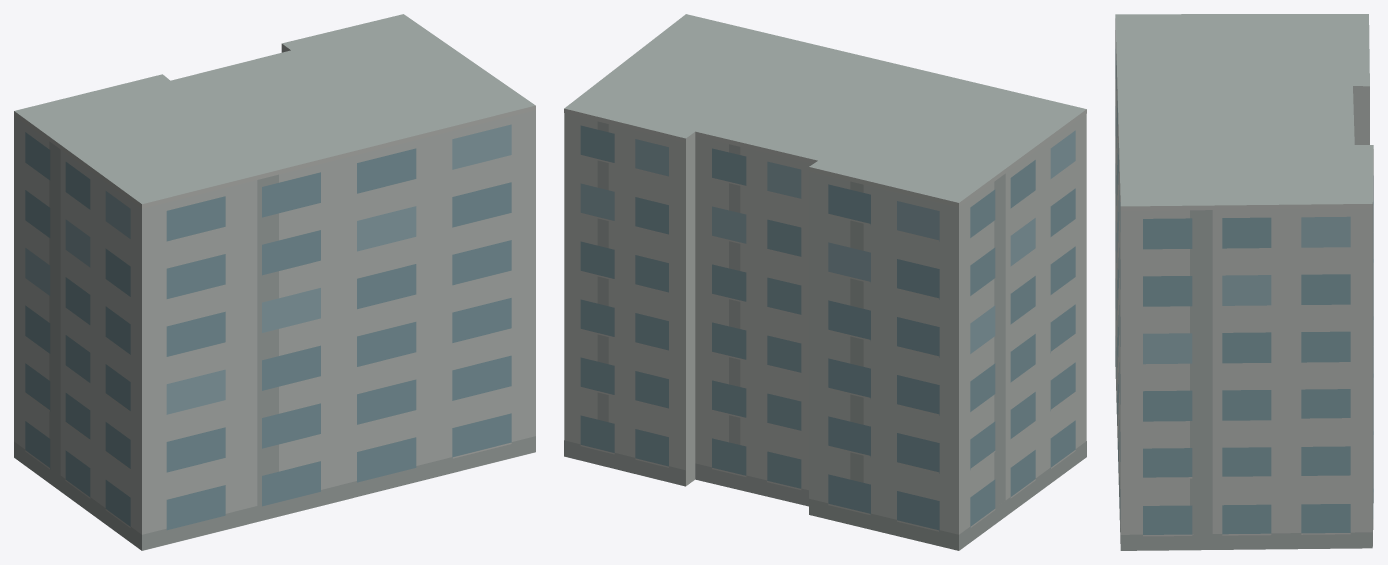
File: survey-upis-32909210.glb
3 renders of one model, left to right at view 1: azimuth 30°, elevation 25°; view 2: azimuth 150°, elevation 25°; view 3: azimuth 270°, elevation 25°, orthographic.
Parts seen in each view (by area): view 1: survey-upis-32909210.tmp; view 2: survey-upis-32909210.tmp; view 3: survey-upis-32909210.tmp.
Boxes of the visible parts, x1=… form: survey-upis-32909210.tmp: x1=14, y1=14, x2=535, y2=550; survey-upis-32909210.tmp: x1=564, y1=14, x2=1086, y2=550; survey-upis-32909210.tmp: x1=1115, y1=14, x2=1373, y2=550.
Bounding box in the file's own units: 21.94 × 18.3 × 12.44.
